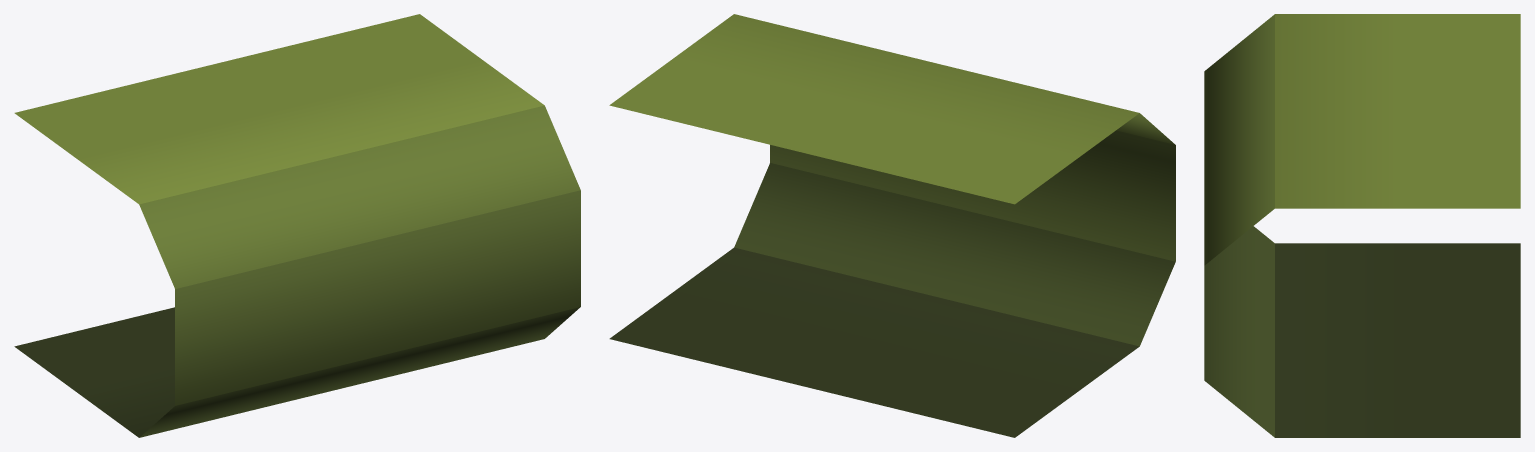
Rendered from grass_top_1x1_tile_front.fbx.
The picture shows the model from 3 angles, left to right: view 1: azimuth 30°, elevation 25°; view 2: azimuth 150°, elevation 25°; view 3: azimuth 270°, elevation 25°; orthographic projection.
Parts seen in each view (by area): view 1: grass_top_1x1_tile_front; view 2: grass_top_1x1_tile_front; view 3: grass_top_1x1_tile_front.
Part boxes in pixels (x1,y1,x2,y2): grass_top_1x1_tile_front: (14,14,580,437); grass_top_1x1_tile_front: (609,14,1175,437); grass_top_1x1_tile_front: (1204,14,1520,437).
Size of the model in its own units: 100 by 55 by 68.72.
